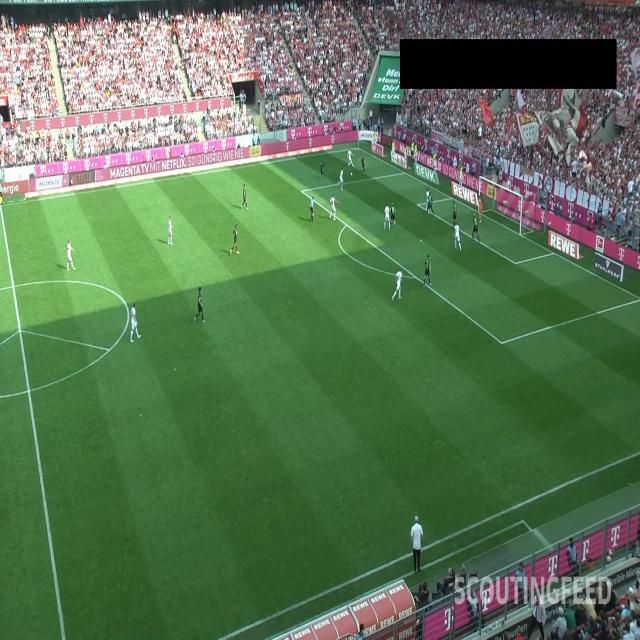ball: (350, 172, 353, 176)
